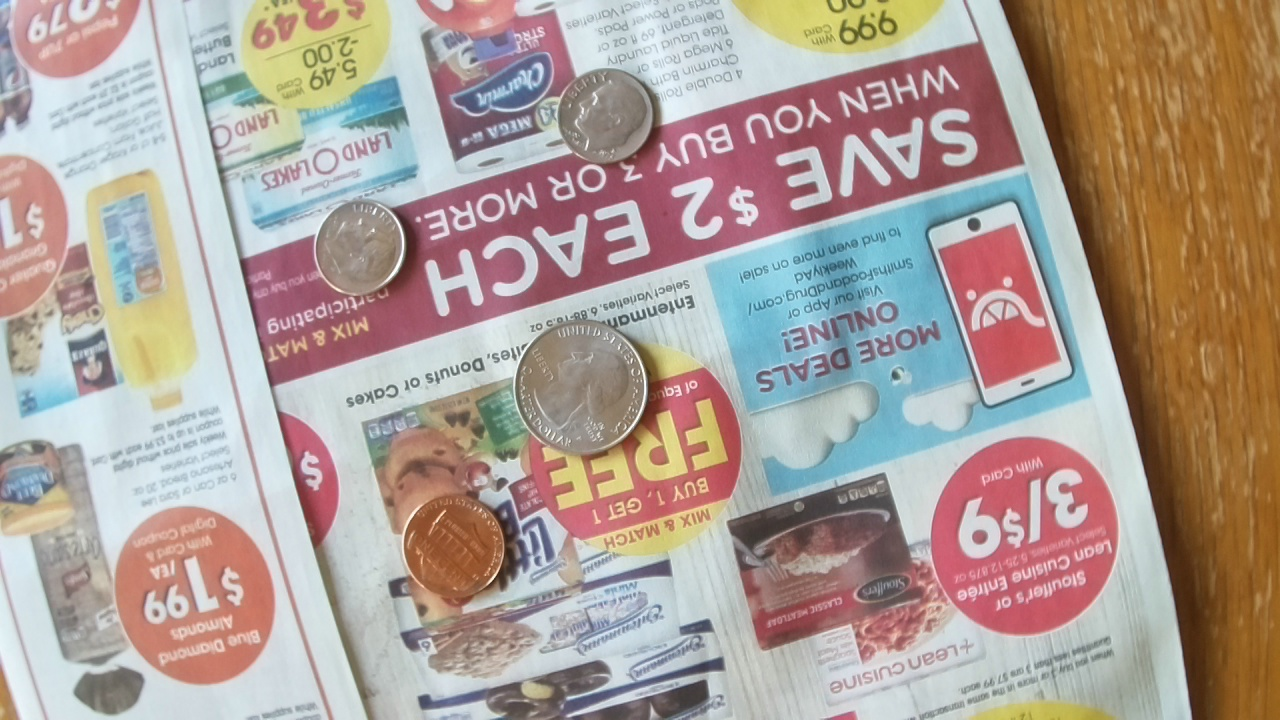dime: (555, 66, 654, 164), (313, 199, 406, 296)
penny: (401, 494, 506, 599)
quarter: (512, 321, 649, 453)
